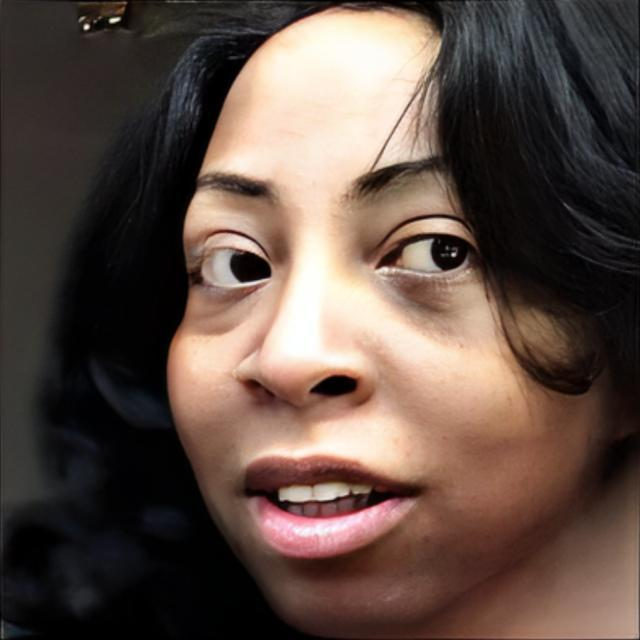surprise: (164, 0, 638, 640)
